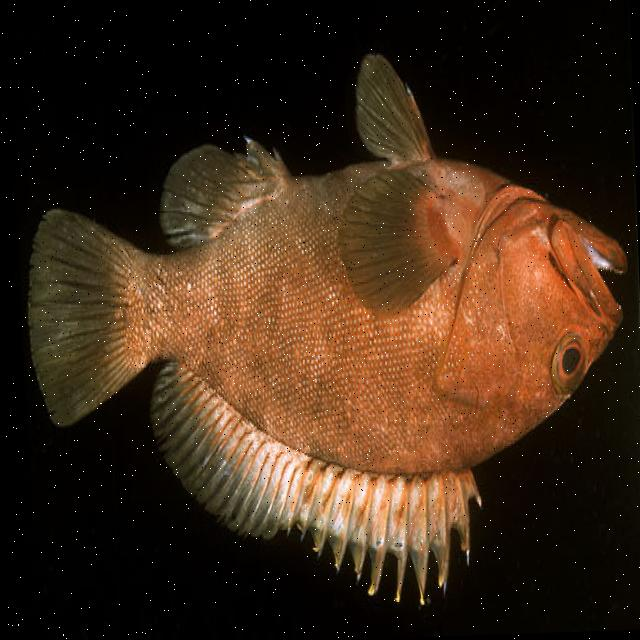ikan: (18, 43, 640, 622)
